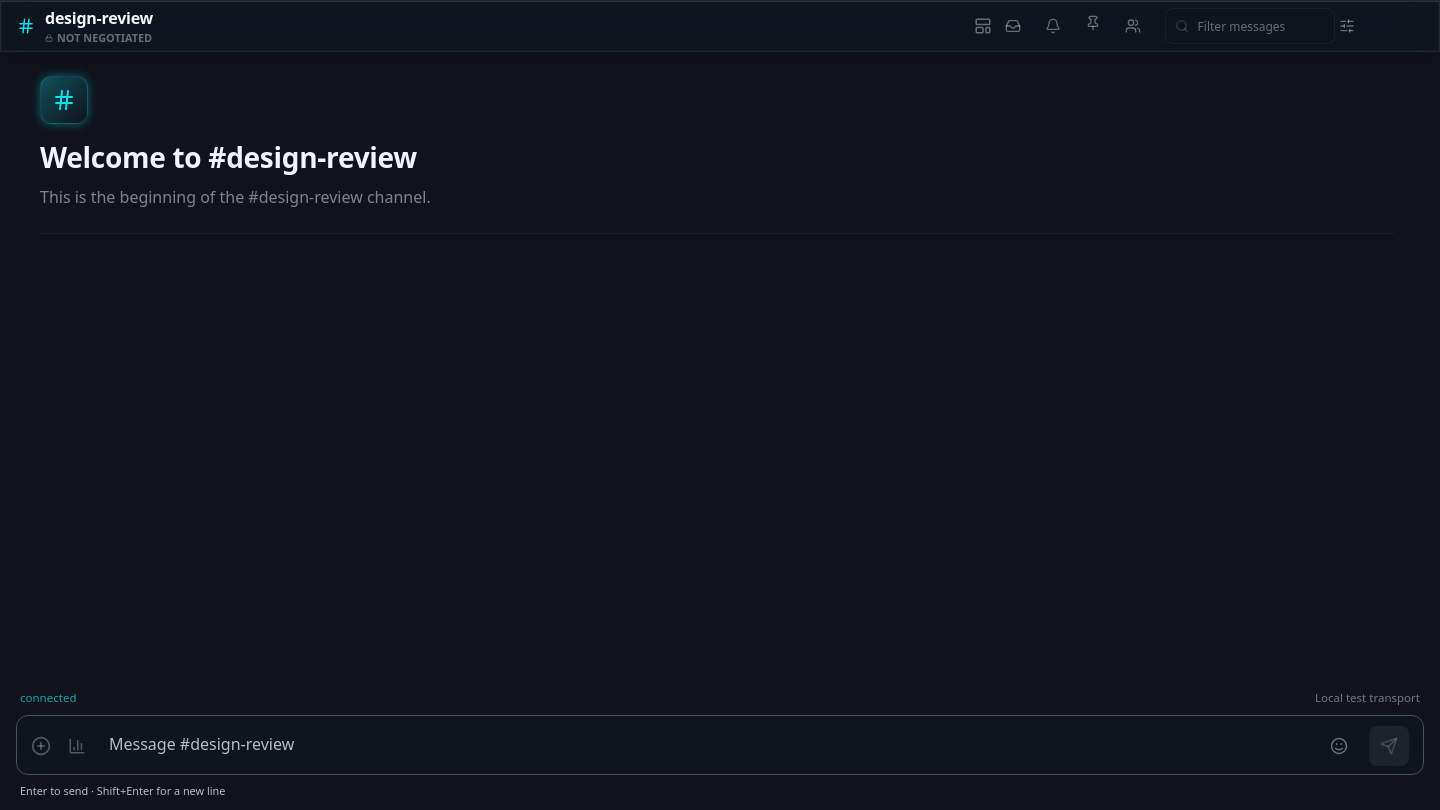
Test: chat composer submission › preserves a failed draft without exposing raw diagnostics
Type "private draft" into the text box named "Message Input" at (705, 745), box [101,722,1309,768]
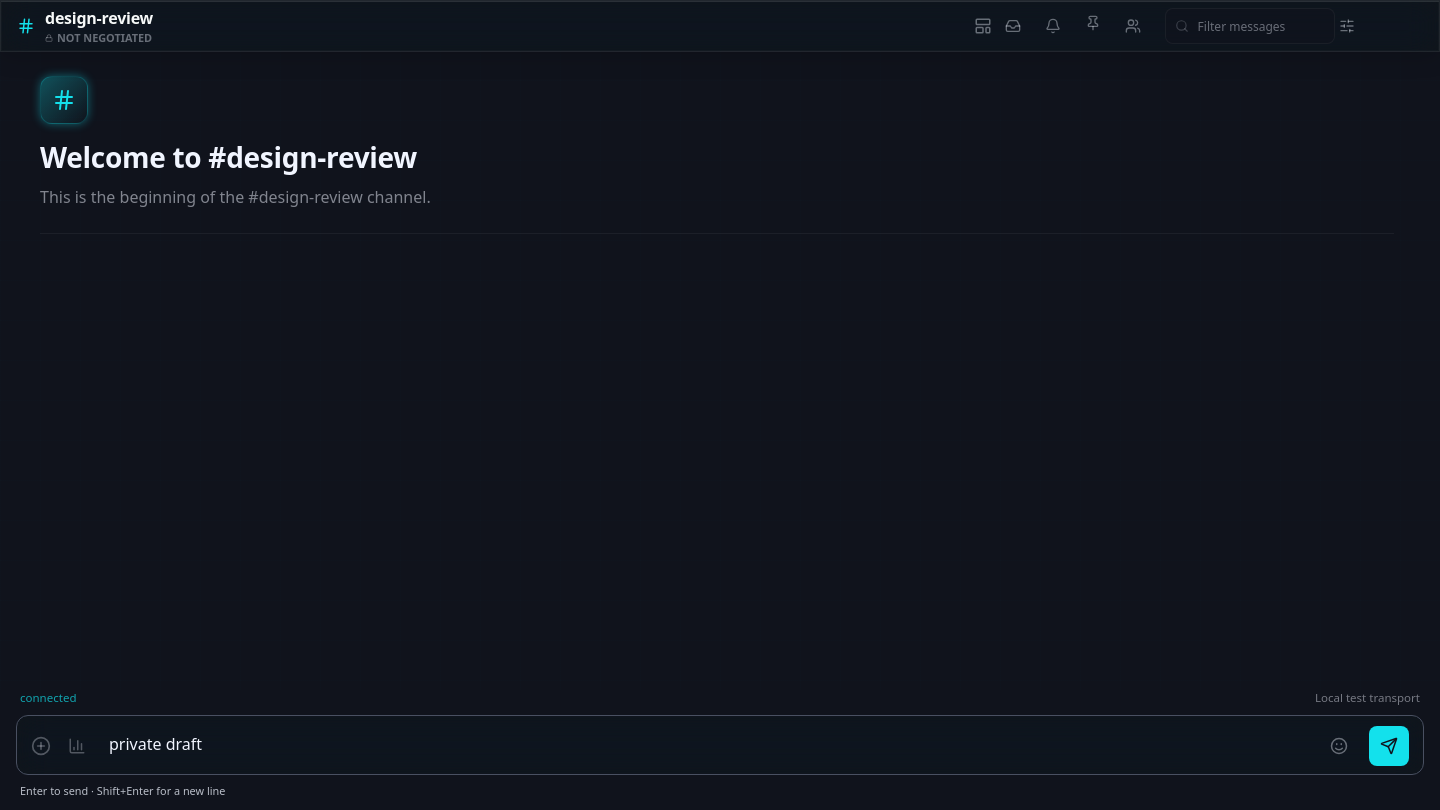
Click the button named "Send Message" at (1389, 746), box [1369,726,1409,766]
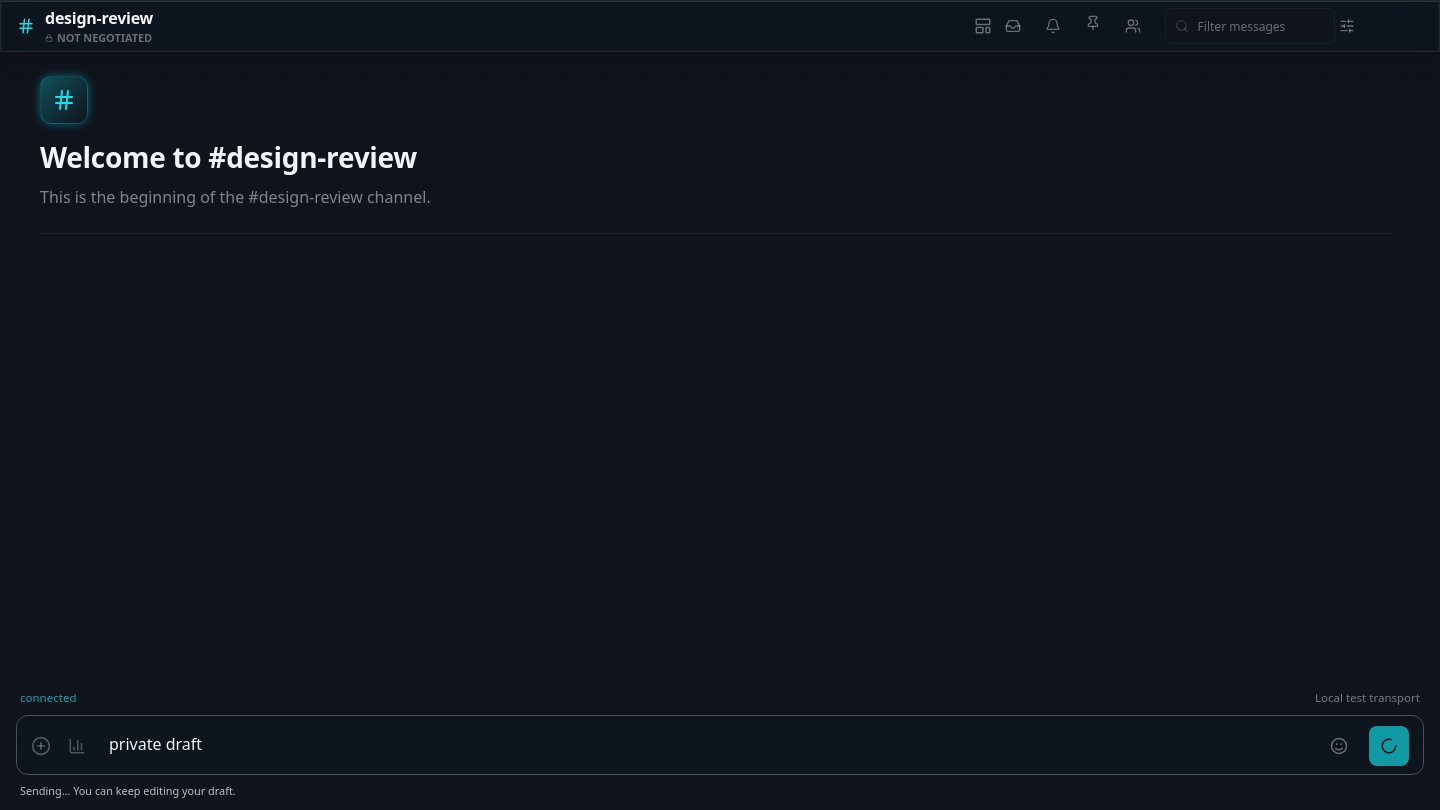
Replace the text in the text box named "Message Input" with "new text while waiting" at (705, 745), box [101,722,1309,768]
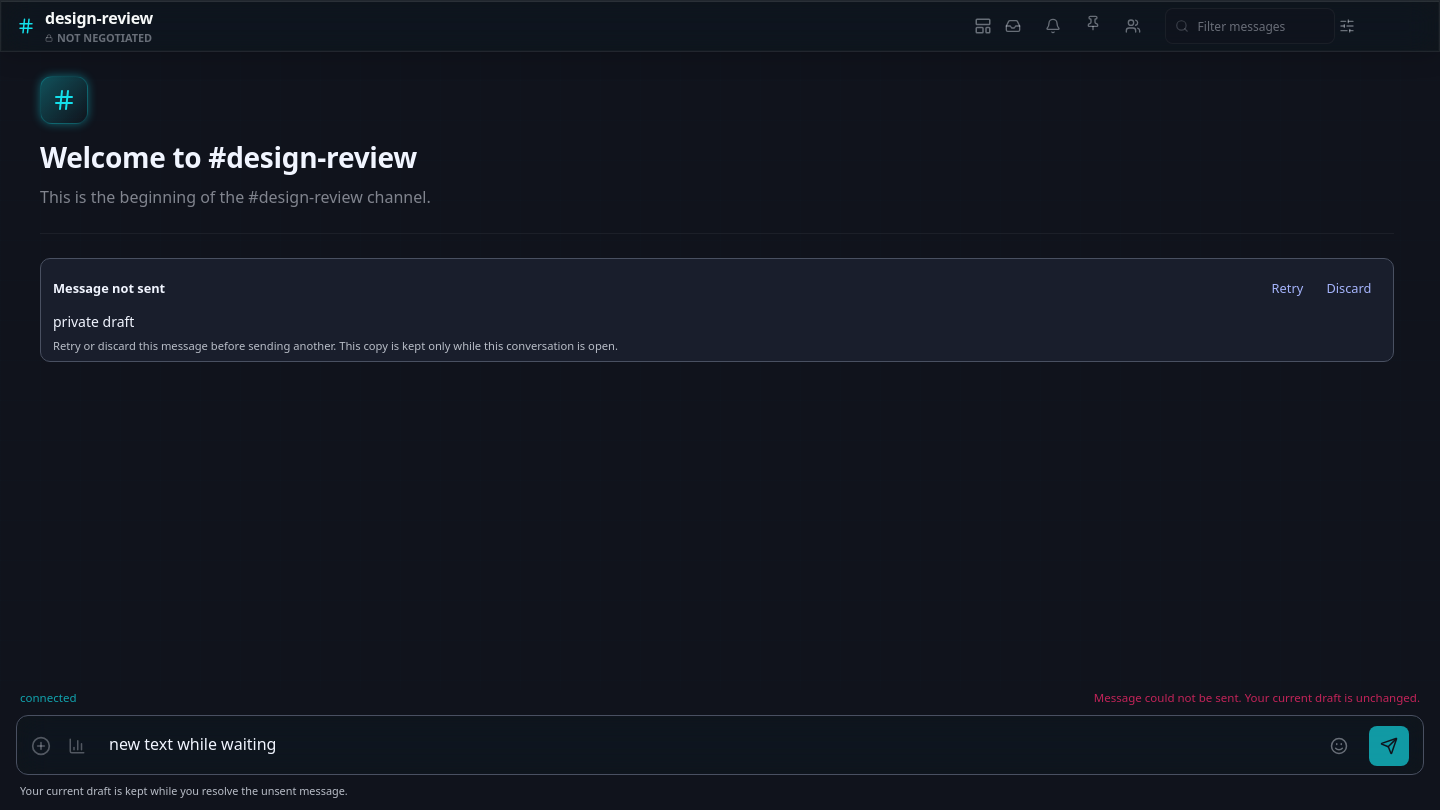
Expected: the button named "Send Message" is disabled, [1369,726,1409,766]
Expected: the text "Message could not be sent. Your current draft is unchanged." is shown, [1094,690,1420,707]
Expected: the text "private draft" is shown, [53,312,134,331]
